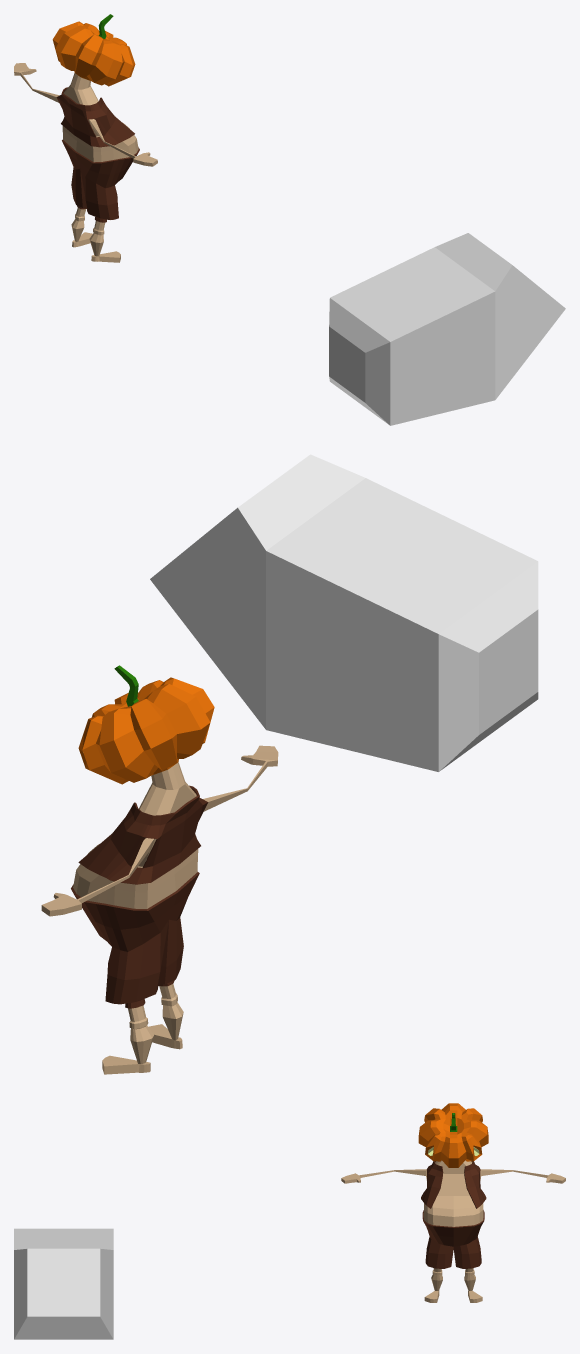
File: pumpkman.glb
3 views of the same model, one above another, from view 1: azimuth 30°, elevation 25°; view 2: azimuth 150°, elevation 25°; view 3: azimuth 270°, elevation 25° (orthographic). The views are drawn at different scales.
Parts seen in each view (by area): view 1: pig, body, pants, vest; view 2: pig, body, pants, vest; view 3: pig, body, pants, vest.
Boxes of the visible parts, x1=… form: pig: x1=329, y1=233, x2=565, y2=425; body: x1=14, y1=14, x2=157, y2=262; pants: x1=62, y1=139, x2=139, y2=222; vest: x1=56, y1=87, x2=134, y2=147; pig: x1=150, y1=454, x2=538, y2=771; body: x1=41, y1=665, x2=278, y2=1074; pants: x1=71, y1=872, x2=199, y2=1008; vest: x1=78, y1=785, x2=208, y2=884; pig: x1=14, y1=1228, x2=113, y2=1339; body: x1=341, y1=1103, x2=565, y2=1302; pants: x1=422, y1=1210, x2=484, y2=1268; vest: x1=421, y1=1161, x2=486, y2=1208.
Size of the model in its own units: 3.17 by 2.84 by 7.39.
